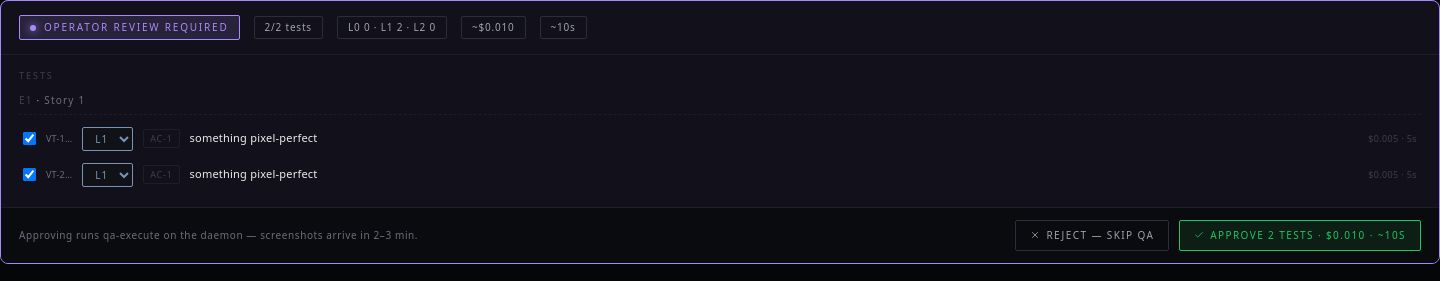
Test: ContractGate — pending state › unchecking a row updates the header total live
Click the checkbox named "Include VT-2" at x=30, y=174, box [23,168,36,181]
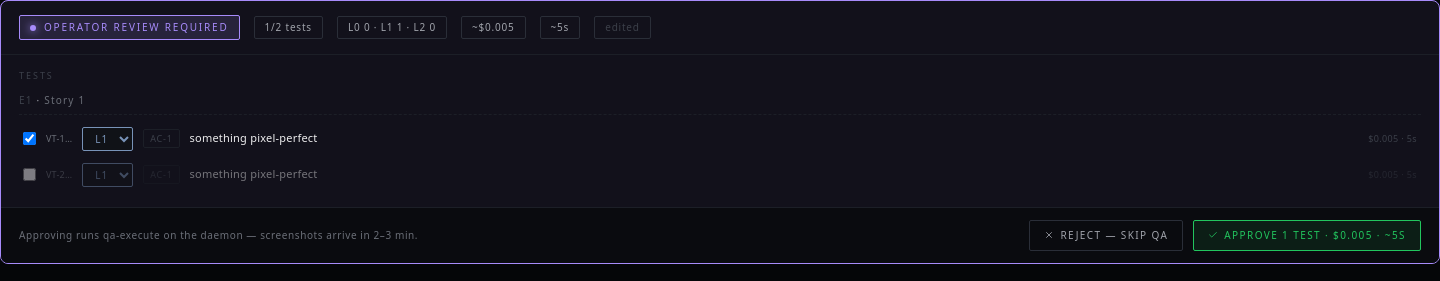
Expected: the text "1/2 tests" is shown, [254,16,323,39]
Expected: the text "L0 0 · L1 1 · L2 0" is shown, [337,16,447,39]
Expected: the text "~$0.005" is shown, [461,16,526,39]
